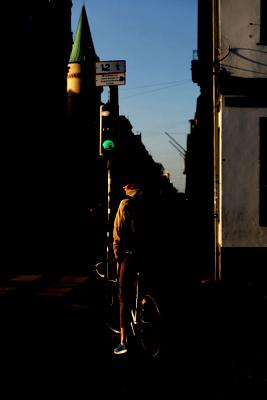International Road Signal Light: (99, 114, 117, 157)
